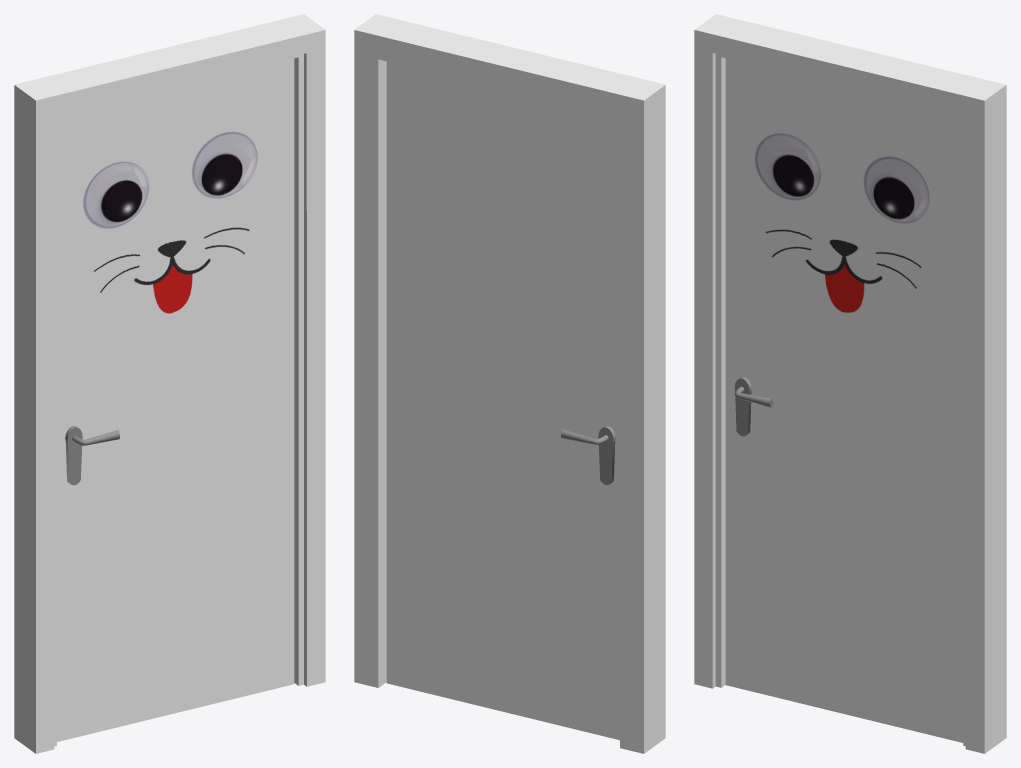
Rendered from Door.FBX.
3 renders of one model, left to right at view 1: azimuth 30°, elevation 25°; view 2: azimuth 150°, elevation 25°; view 3: azimuth 330°, elevation 25°, orthographic.
Parts seen in each view (by area): view 1: Door, door frame; view 2: Door, door frame; view 3: Door, door frame.
Boxes of the visible parts, x1=… form: Door: x1=57, y1=58, x2=294, y2=741; door frame: x1=14, y1=14, x2=325, y2=753; Door: x1=386, y1=61, x2=619, y2=740; door frame: x1=354, y1=14, x2=665, y2=753; Door: x1=725, y1=58, x2=963, y2=742; door frame: x1=694, y1=14, x2=1006, y2=753.
Bounding box in the file's own units: 96.56 × 208 × 16.78.
2 materials, 1 textured.
